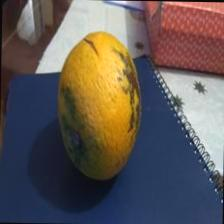Orange Rotten: (46, 26, 170, 192)
